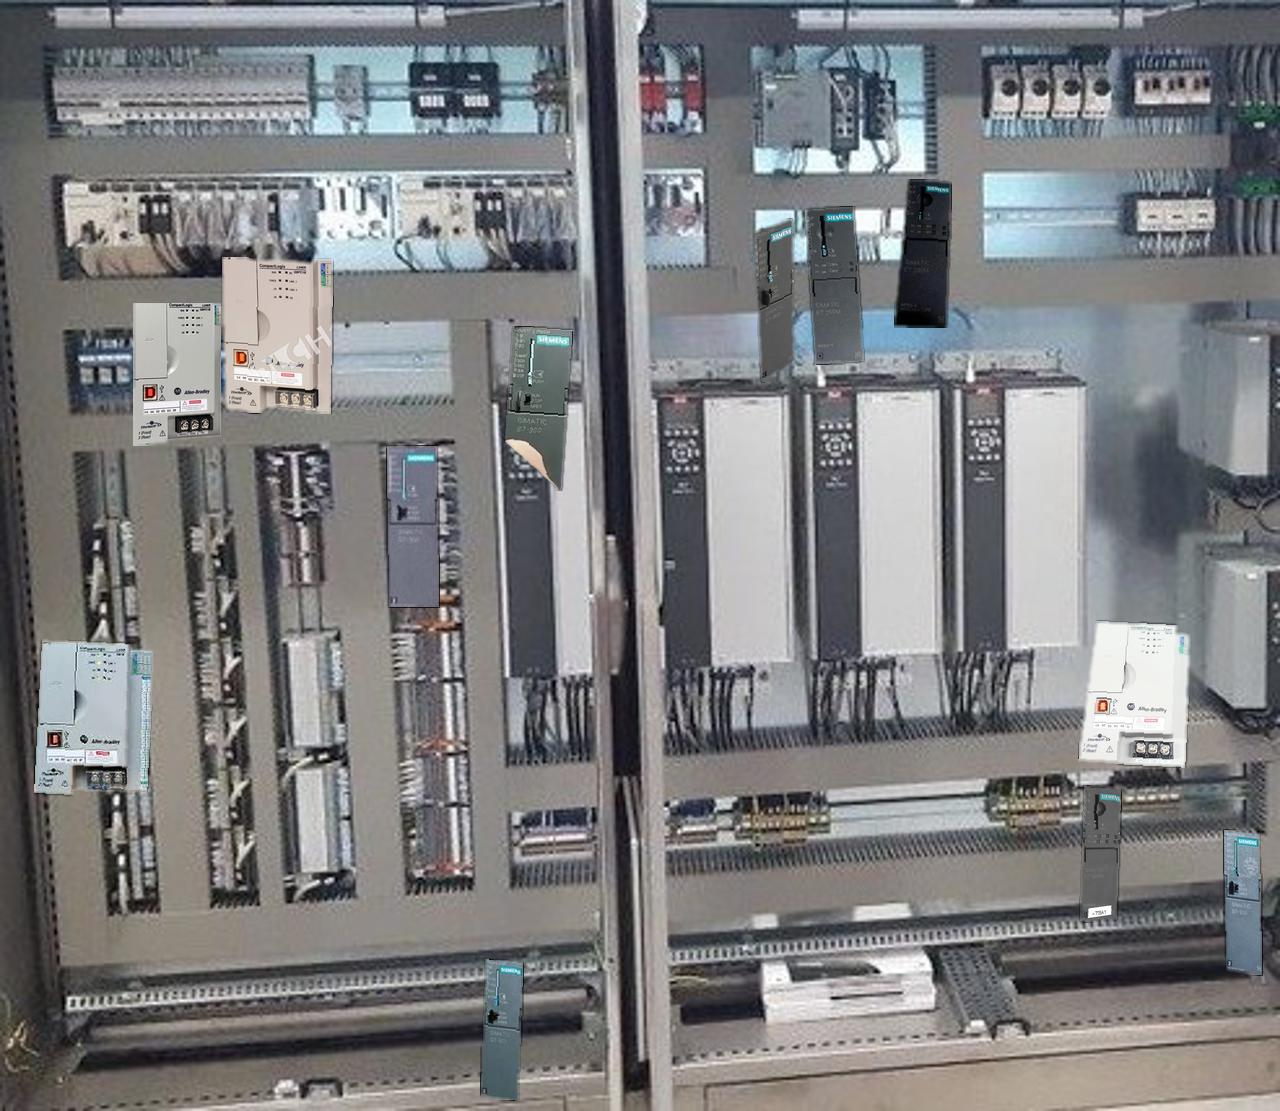AllenBradley: (34, 641, 152, 794), (222, 257, 332, 413), (1078, 622, 1187, 766), (133, 303, 220, 445)
Siemens: (505, 326, 573, 490), (387, 446, 438, 606), (754, 219, 793, 381), (481, 959, 522, 1100), (1224, 830, 1261, 974)
